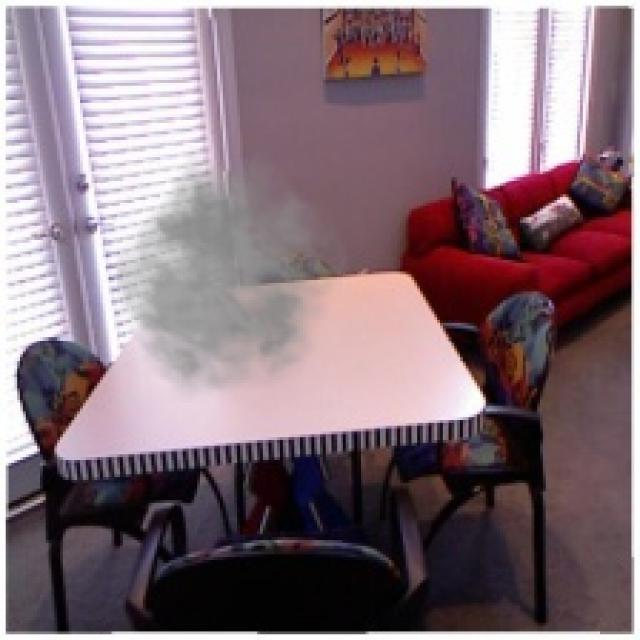smoke: (115, 146, 352, 403)
